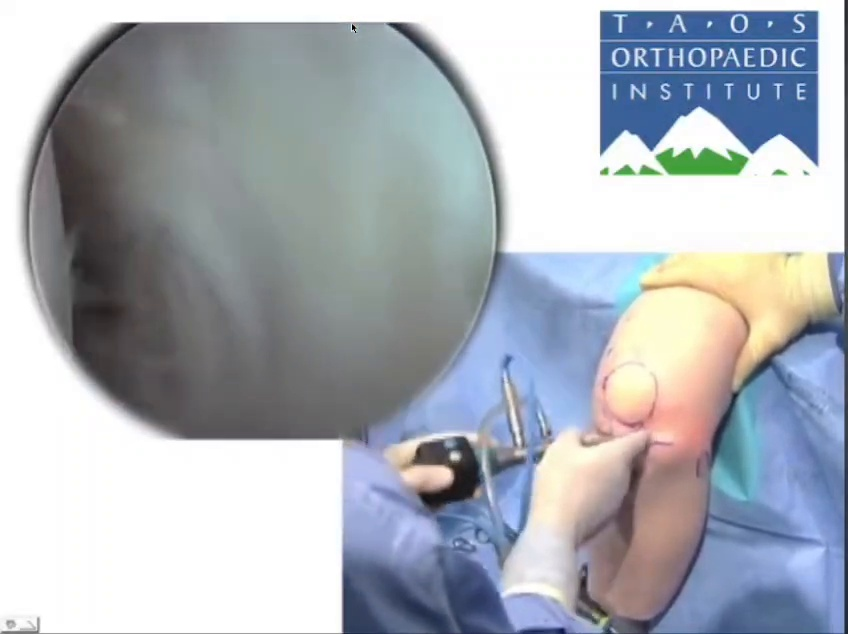arthroscope: (155, 0, 424, 341)
